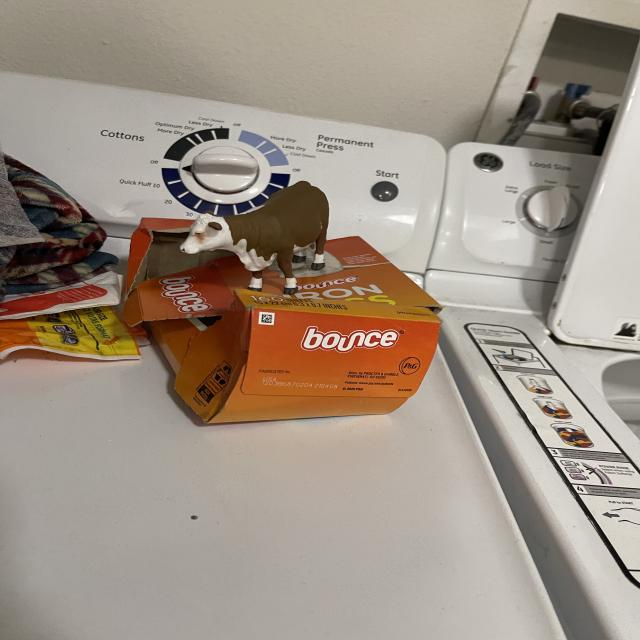cow: (171, 175, 352, 324)
